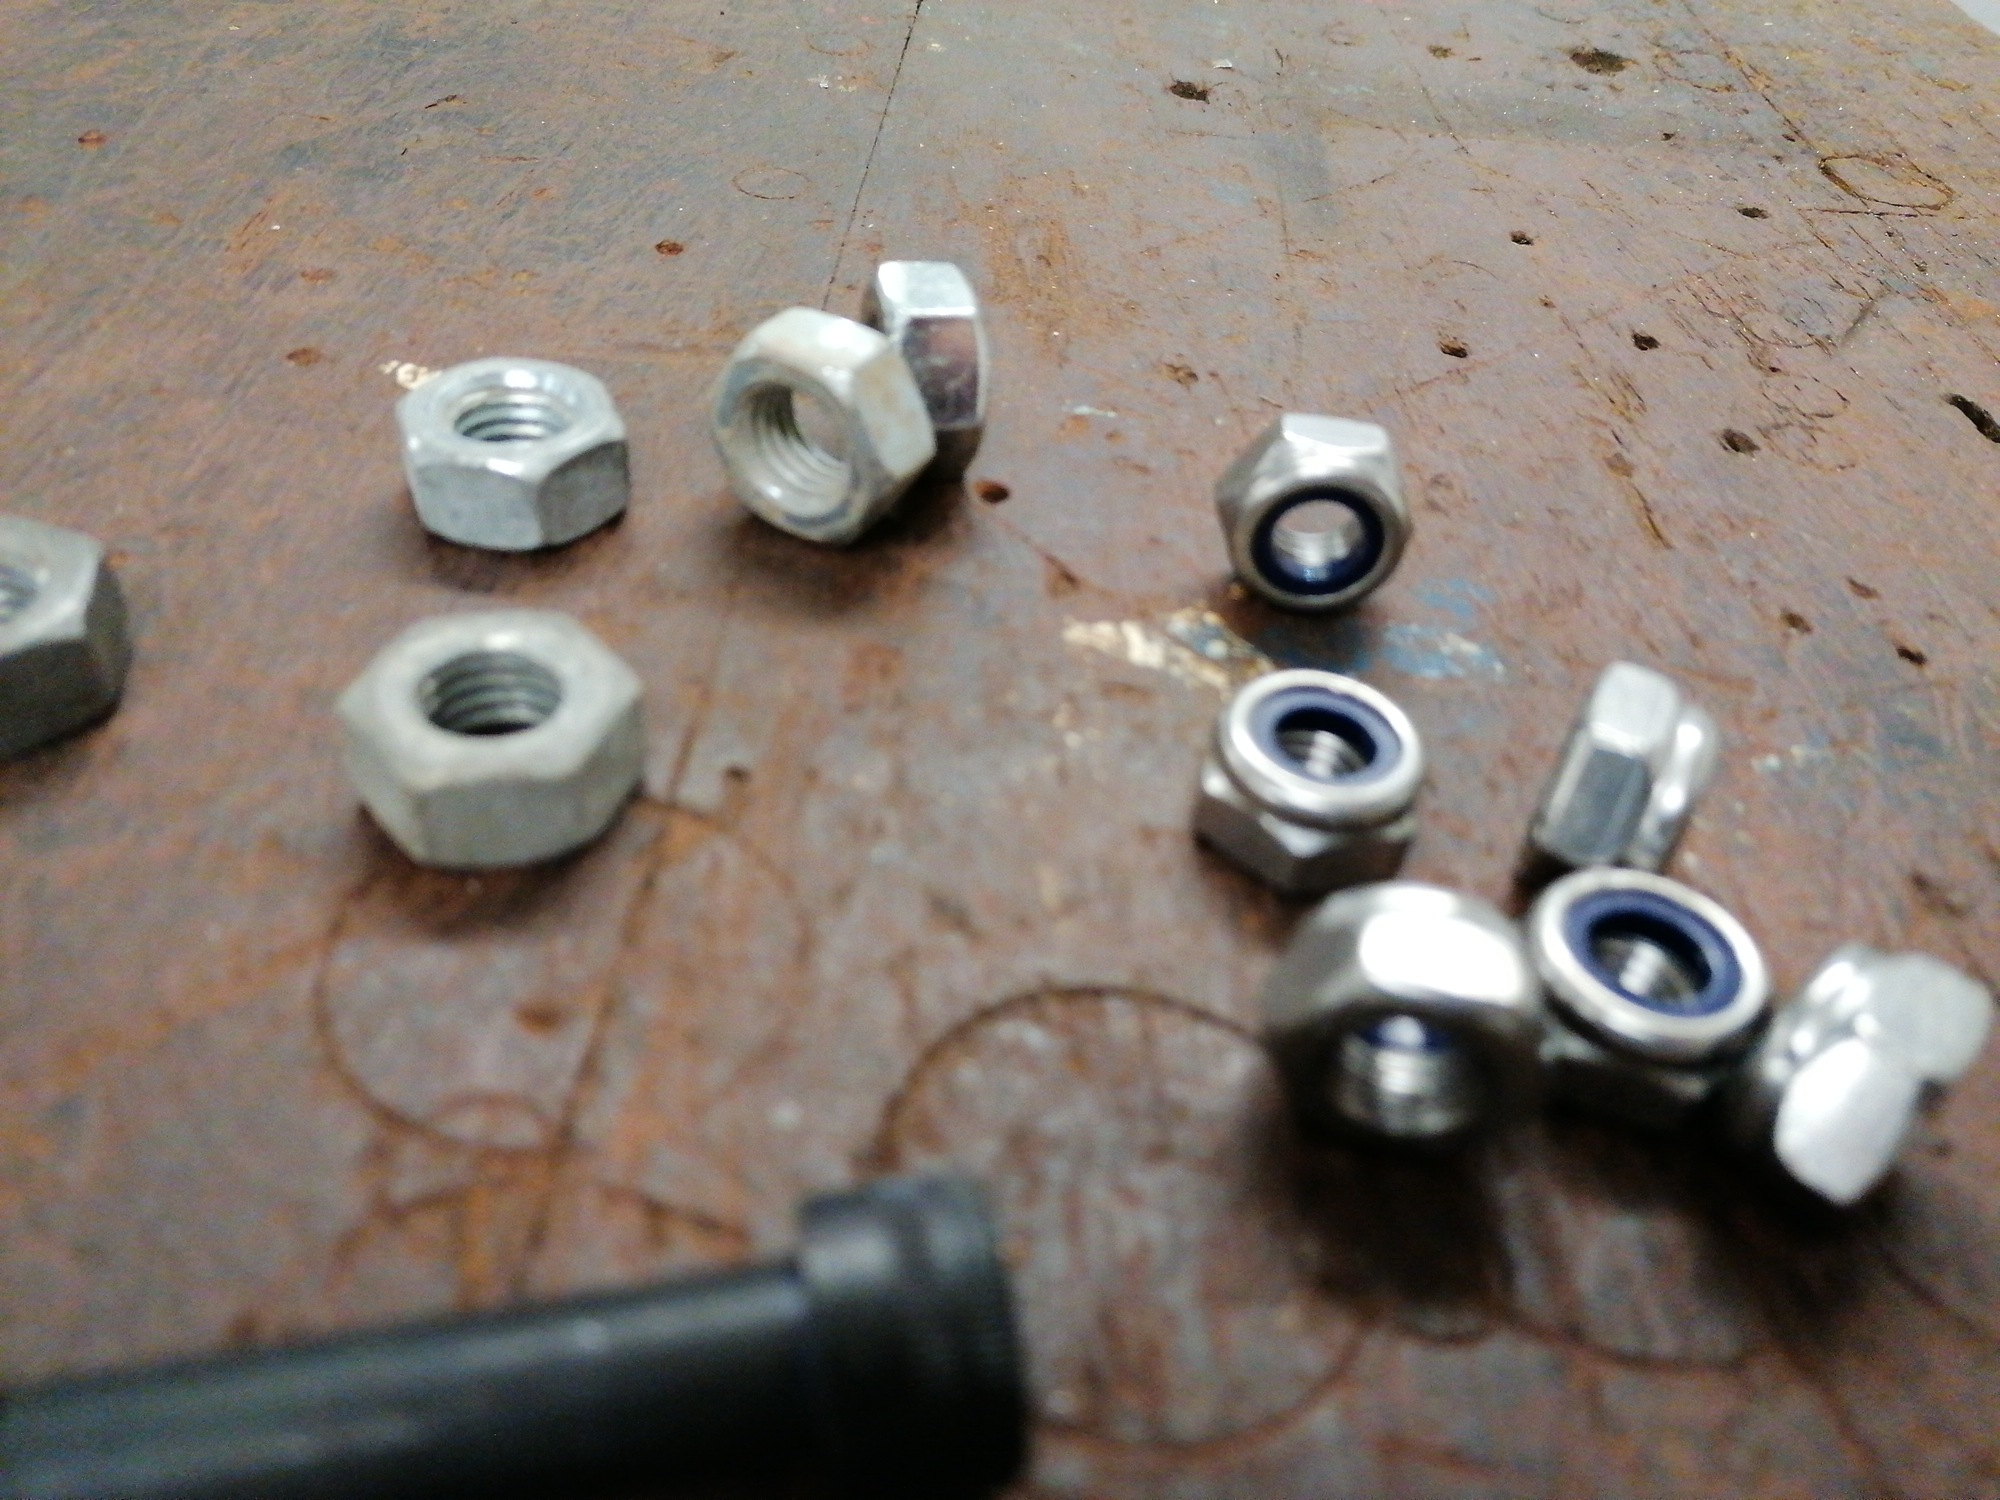bolt: (2, 1166, 1031, 1497)
nut: (339, 603, 647, 870), (1260, 874, 1540, 1161), (1717, 939, 1997, 1213), (1513, 859, 1773, 1136), (702, 306, 935, 547), (1191, 660, 1433, 887), (1513, 659, 1726, 917), (391, 351, 630, 555), (1211, 410, 1417, 611), (2, 504, 132, 761), (857, 251, 987, 484)
